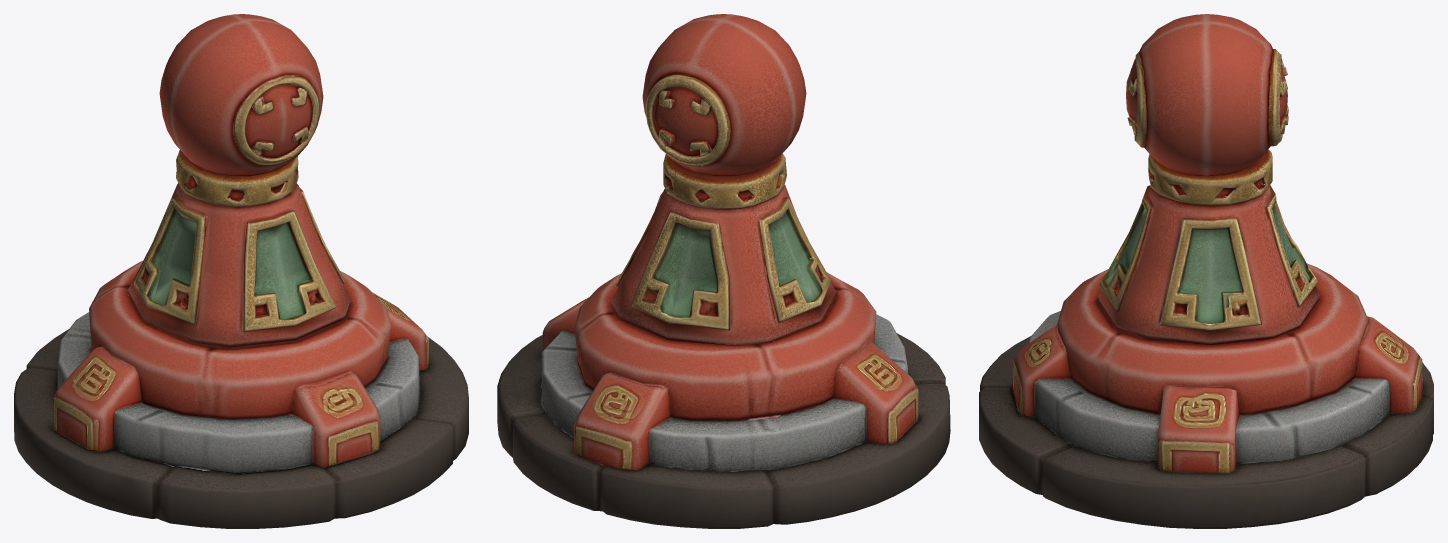
The model's file is tripo_convert_012dcfef-4167-4b63-bc0c-a6b6d86289dc.fbx.
The picture shows the model from 3 angles, left to right: view 1: azimuth 30°, elevation 25°; view 2: azimuth 150°, elevation 25°; view 3: azimuth 270°, elevation 25°; orthographic projection.
Visible parts, largest first — view 1: tripo_node_012dcfef; view 2: tripo_node_012dcfef; view 3: tripo_node_012dcfef.
Boxes of the visible parts, x1,y1,x2,y2 form: tripo_node_012dcfef: (14, 14, 468, 528); tripo_node_012dcfef: (497, 14, 950, 528); tripo_node_012dcfef: (979, 14, 1433, 528).
Bounding box in the file's own units: 0.998 × 0.998 × 0.998.
Materials: 1 (1 with a texture image).
